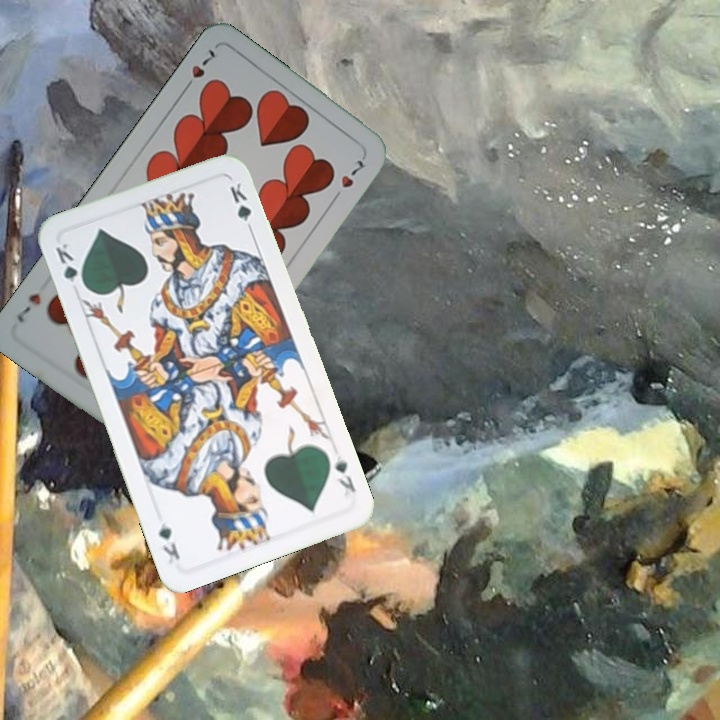GK: (51, 239, 88, 292), (330, 451, 358, 499)
H7: (178, 45, 218, 95)
